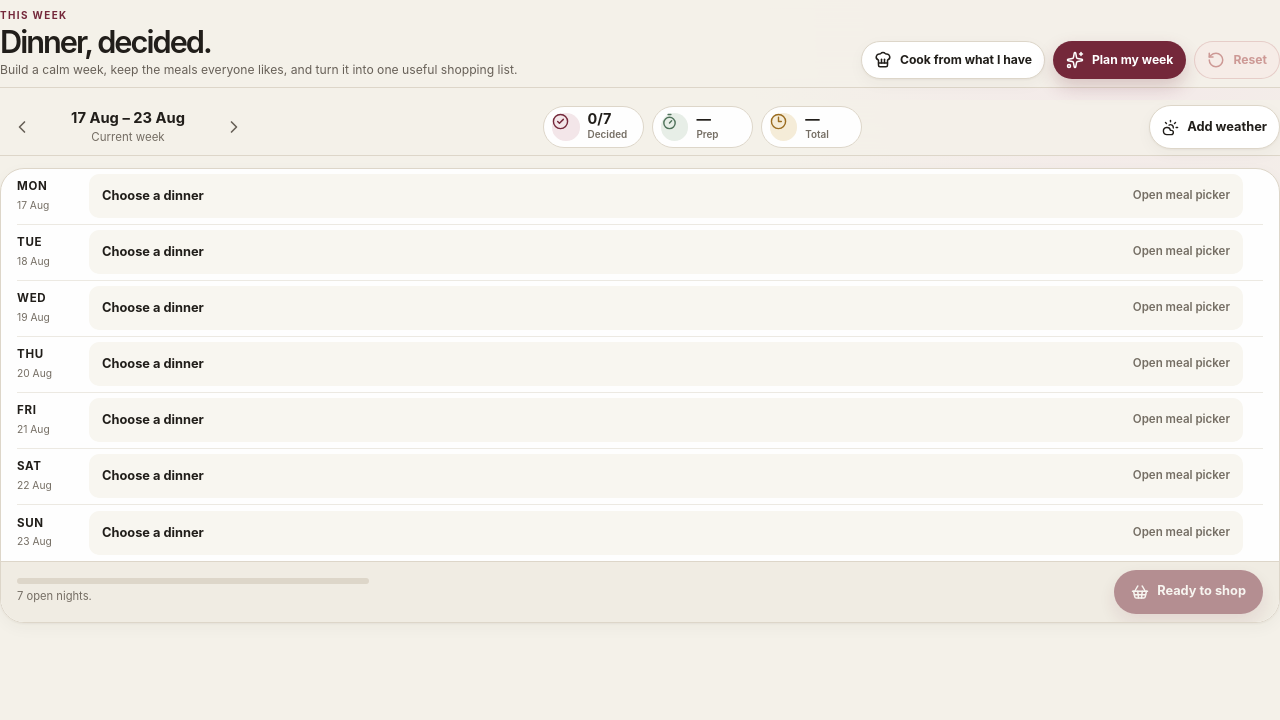
Test: PlanPage › cycles through explainable inspiration without random reshuffling
Click the button "Choose a dinner Open meal picker" in the row of "Mon".
click(153, 196)  # box 89,174 -> 1243,218
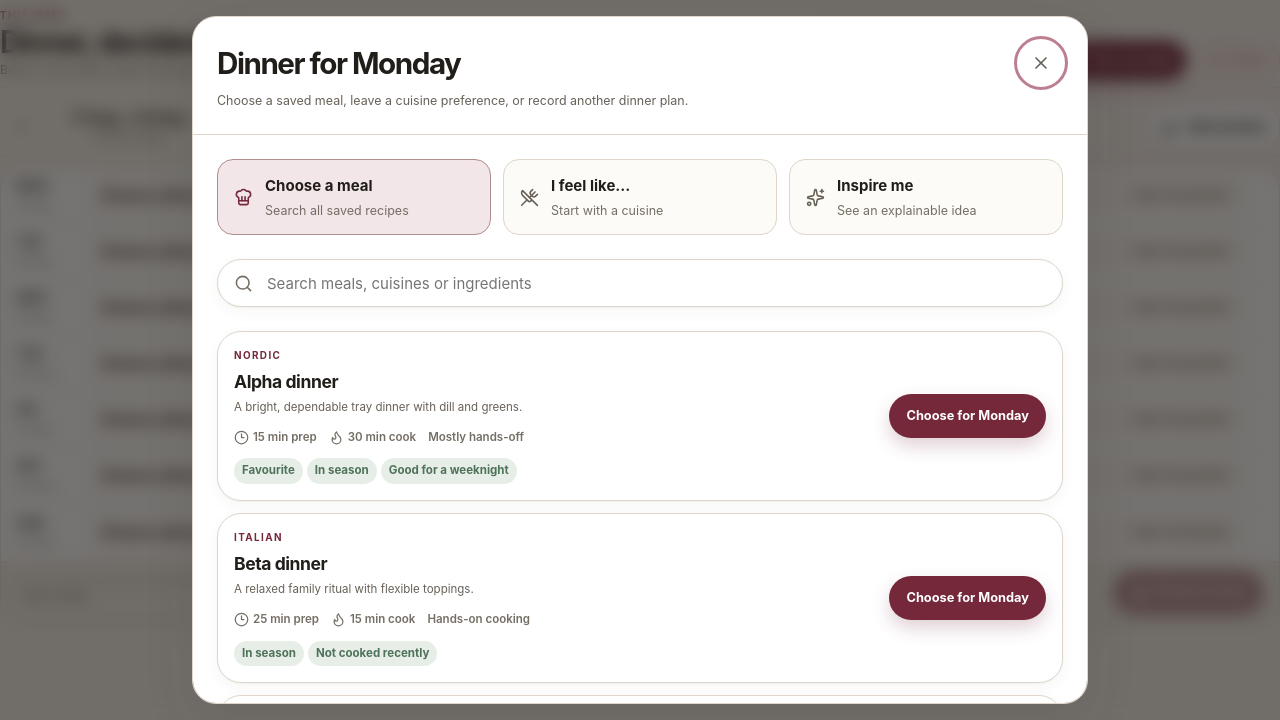
Click the button "Inspire me See an explainable idea".
click(875, 185)  # box 789,159 -> 1063,235
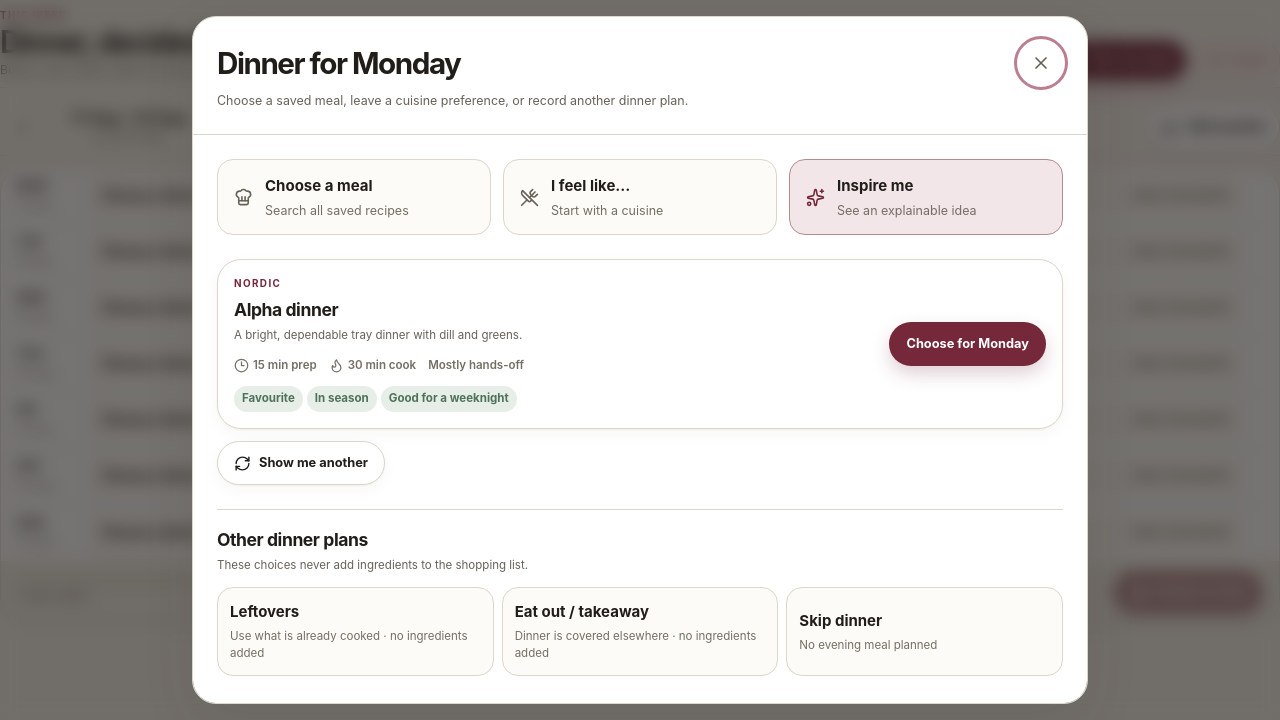
Click the button "Show me another".
click(301, 463)  # box 217,441 -> 385,485
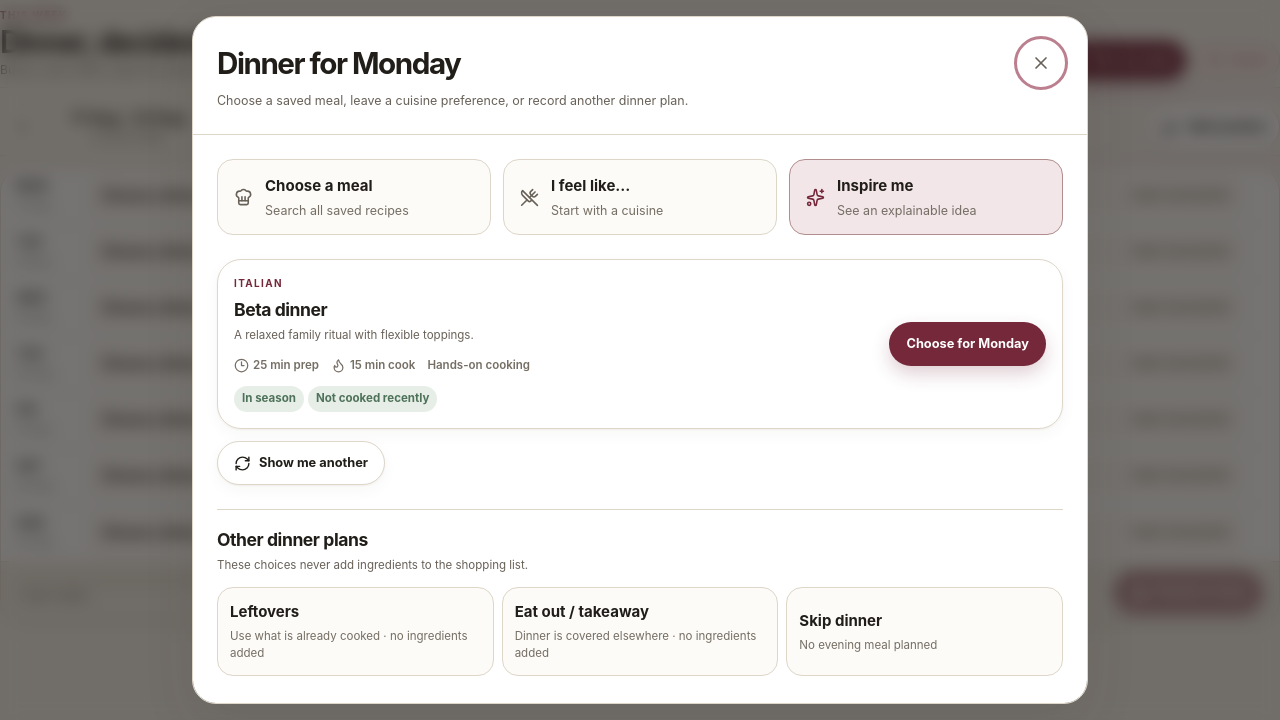
expect the heading "Alpha dinner" no longer shows "Alpha dinner": met
